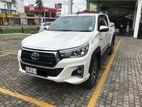car: (16, 14, 115, 88)
